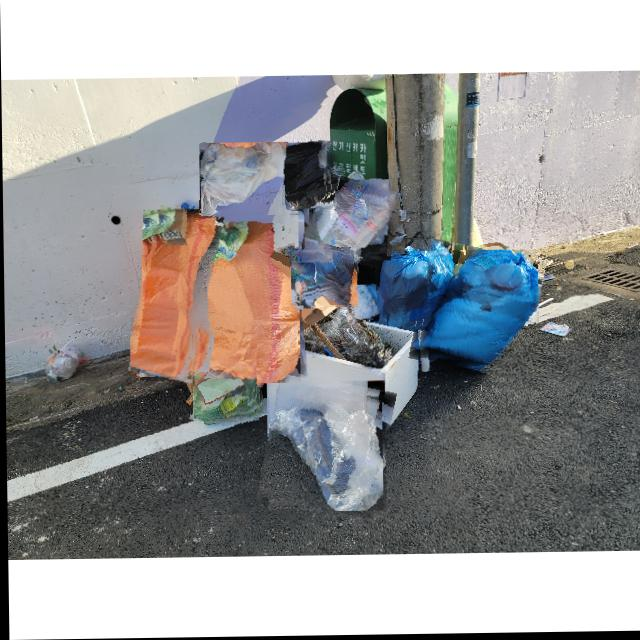general_trashbag: (193, 334, 257, 421)
other_trashbag: (203, 214, 298, 384), (129, 215, 225, 379), (417, 251, 538, 367), (272, 394, 382, 512), (304, 182, 397, 257), (200, 144, 286, 218), (291, 251, 354, 305), (278, 144, 328, 210), (347, 287, 378, 322), (411, 290, 411, 291)
